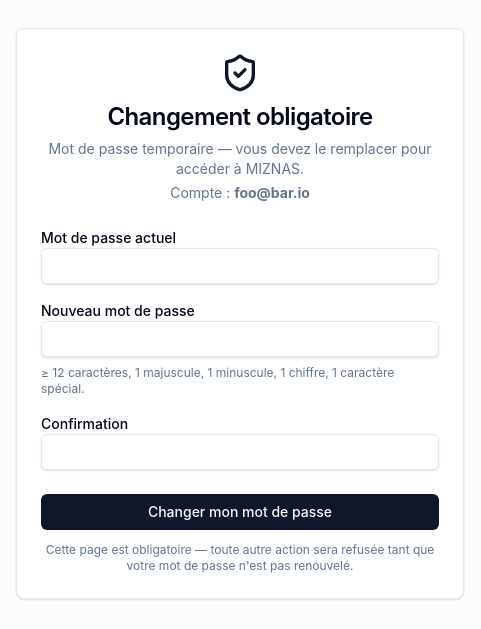
Scenario: ForceChangePasswordPage › valide la policy : refuse mdp sans caractère spécial
Type "OldPass!2025" into the password field with test id "cm-ancien".
click(240, 266); type("OldPass!2025")  # box [41,248,439,284]
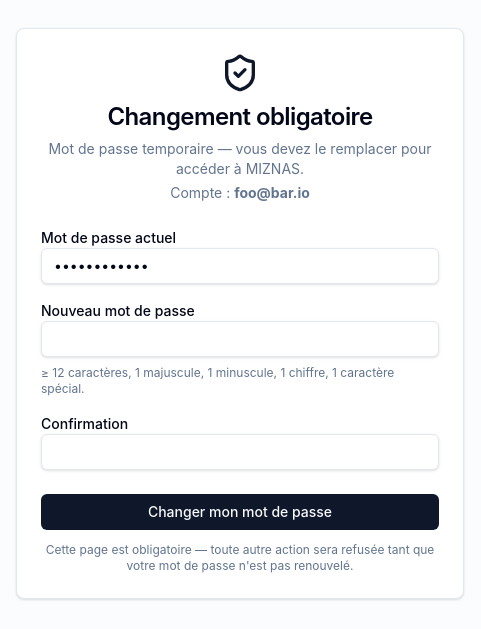
Type "NoSpecialChar9" into the password field with test id "cm-nouveau".
click(240, 338); type("NoSpecialChar9")  # box [41,320,439,356]
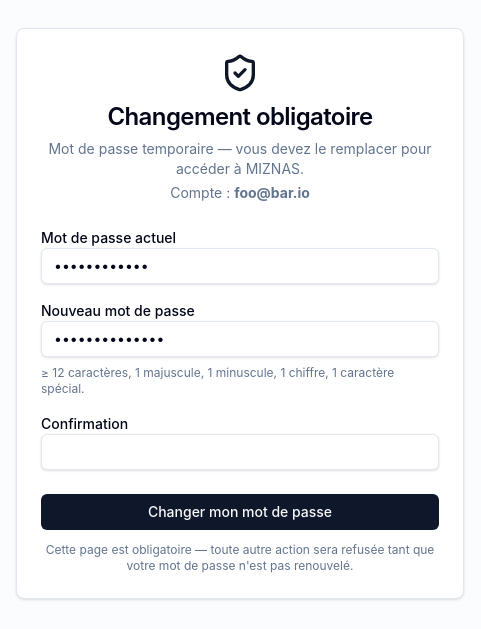
Type "NoSpecialChar9" into the password field with test id "cm-confirmation".
click(240, 452); type("NoSpecialChar9")  # box [41,434,439,470]
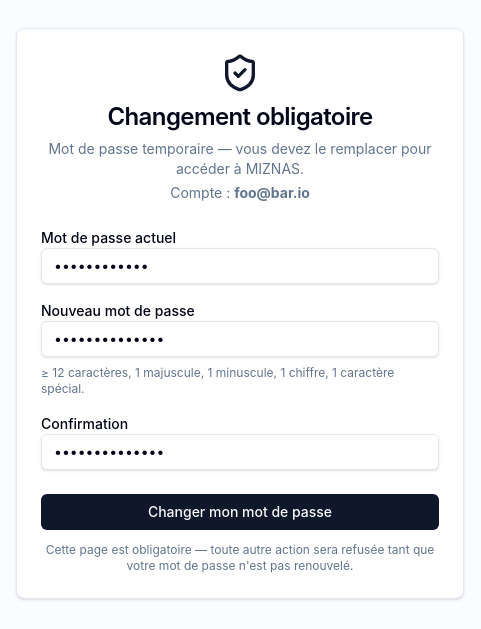
Click the button with test id "cm-submit".
click(240, 512)  # box [41,494,439,530]
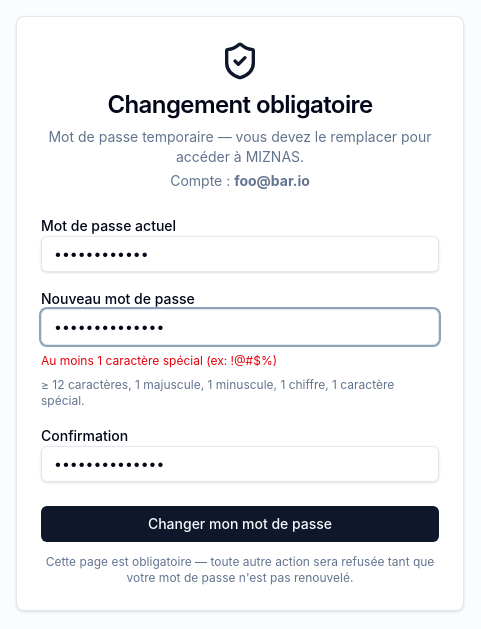
Now the text "Au moins 1 caractère spécial (ex: !@#$%)" is shown, box [41,352,277,368]
